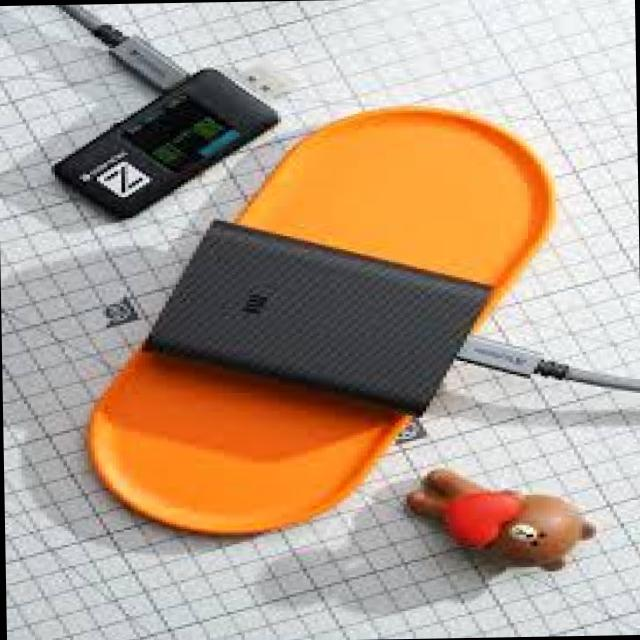power_bank: (142, 211, 495, 419)
